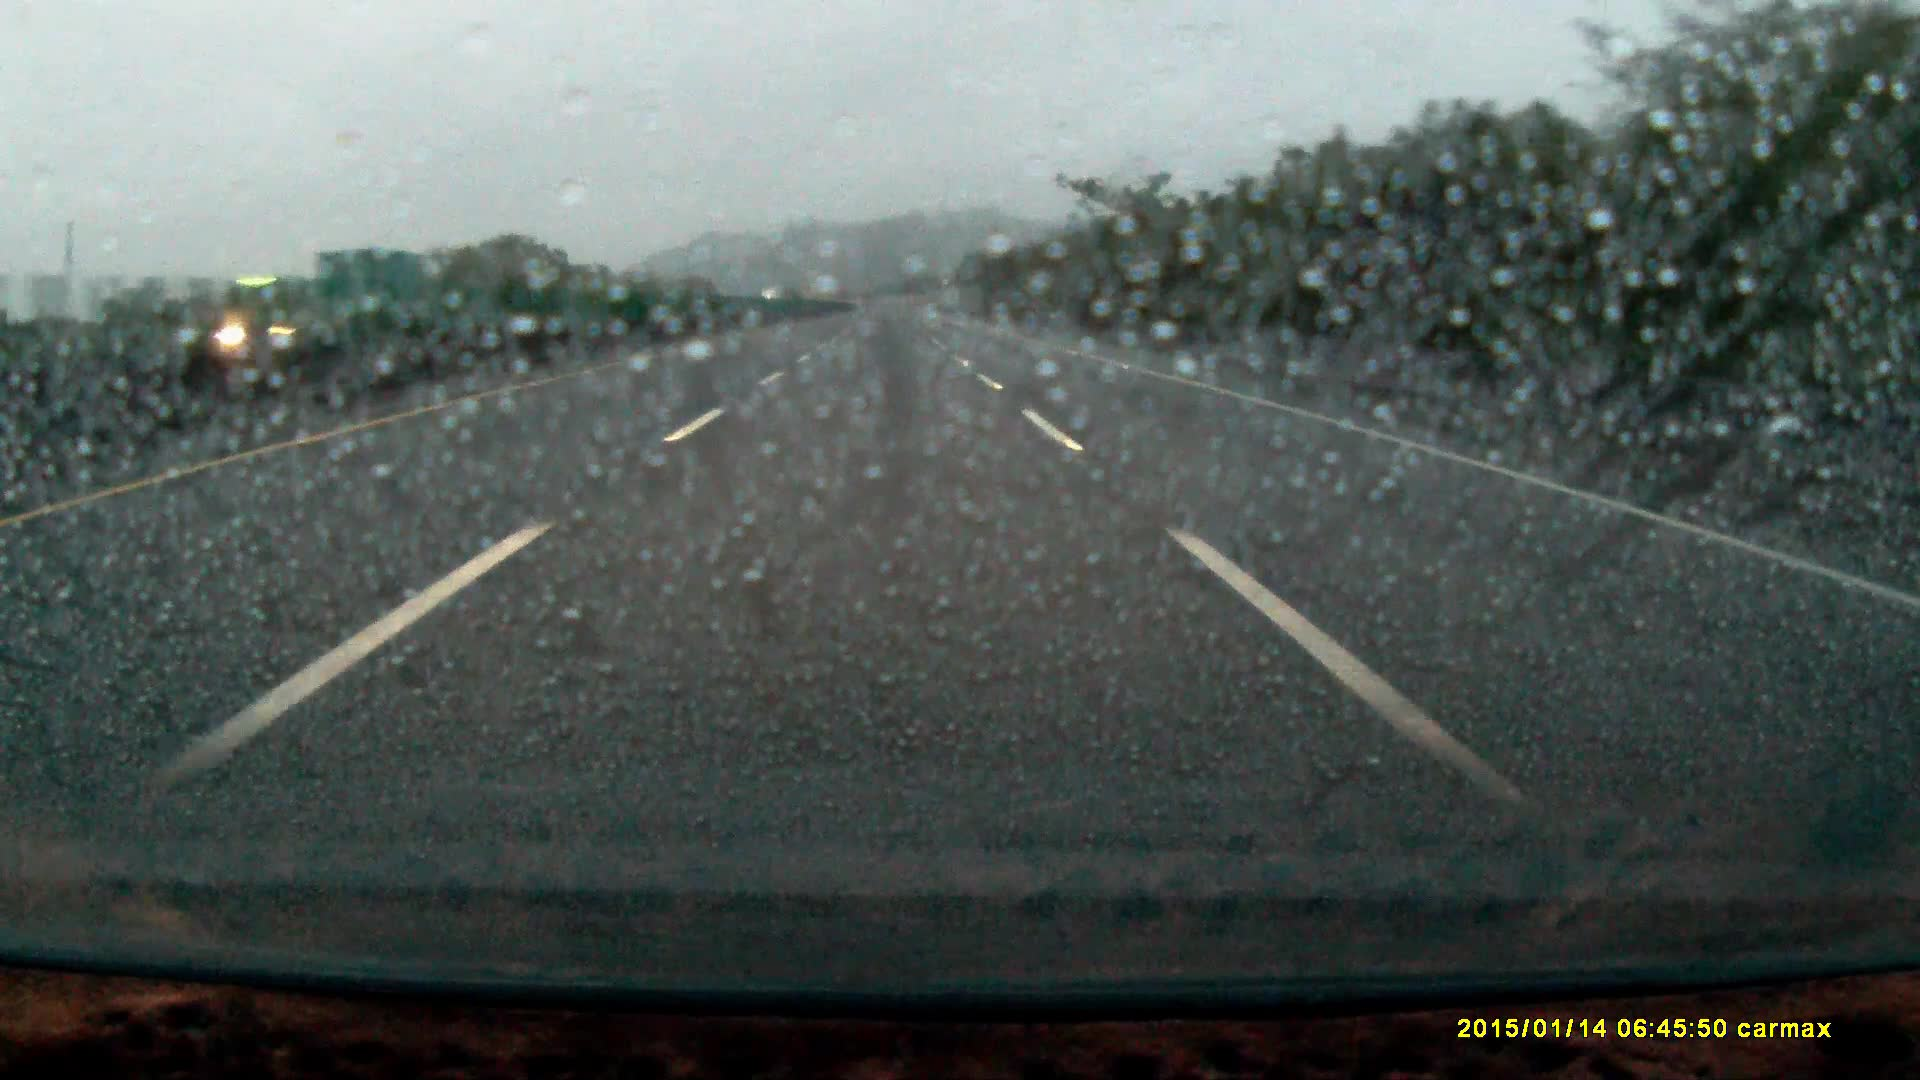vehicle: (196, 247, 431, 359)
